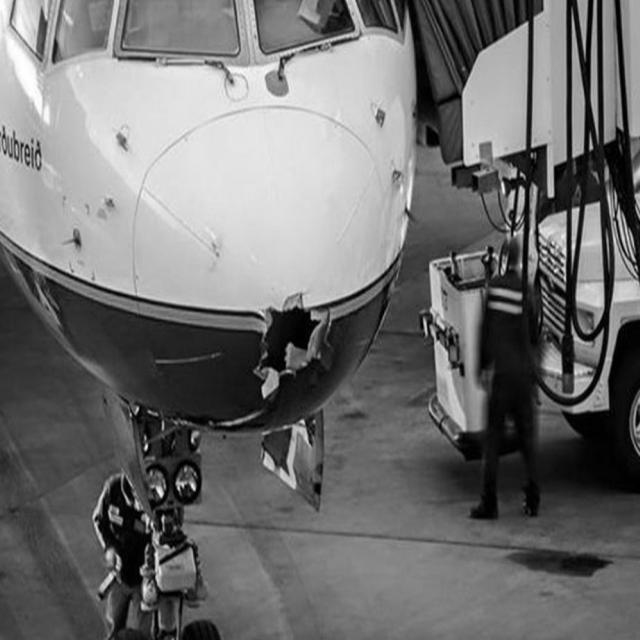crack: (252, 290, 336, 406)
